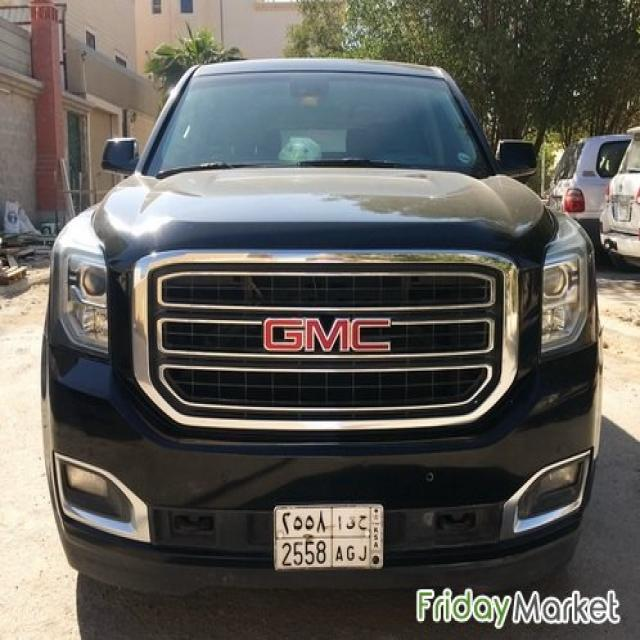license_plate: (272, 502, 386, 572)
